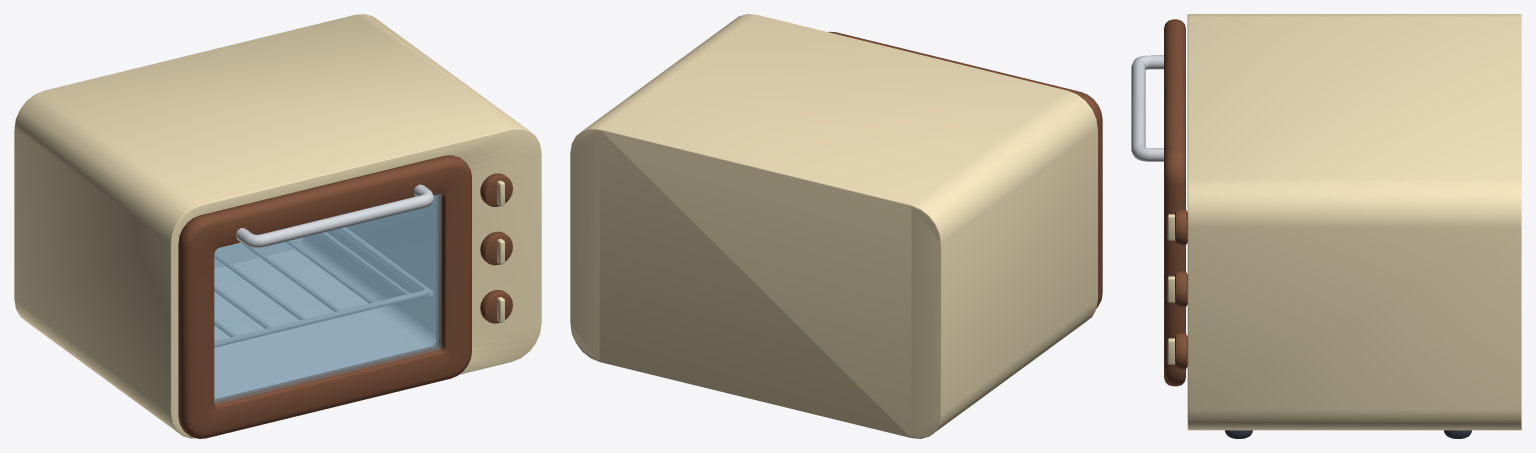
File: forno_eletrico_creme.glb
3 renders of one model, left to right at view 1: azimuth 30°, elevation 25°; view 2: azimuth 150°, elevation 25°; view 3: azimuth 270°, elevation 25°, orthographic. The views are drawn at different scales.
Visible parts, largest first — view 1: forno_eletrico_creme, porta; view 2: forno_eletrico_creme, porta; view 3: forno_eletrico_creme, porta.
Part boxes in pixels (x1=…): forno_eletrico_creme: x1=14, y1=14, x2=541, y2=438; porta: x1=178, y1=155, x2=471, y2=438; forno_eletrico_creme: x1=570, y1=14, x2=1097, y2=438; porta: x1=828, y1=31, x2=1102, y2=307; forno_eletrico_creme: x1=1167, y1=14, x2=1521, y2=438; porta: x1=1131, y1=19, x2=1185, y2=386.
Size of the model in its own units: 0.5 by 0.32 by 0.428.
2 materials, 1 textured.
